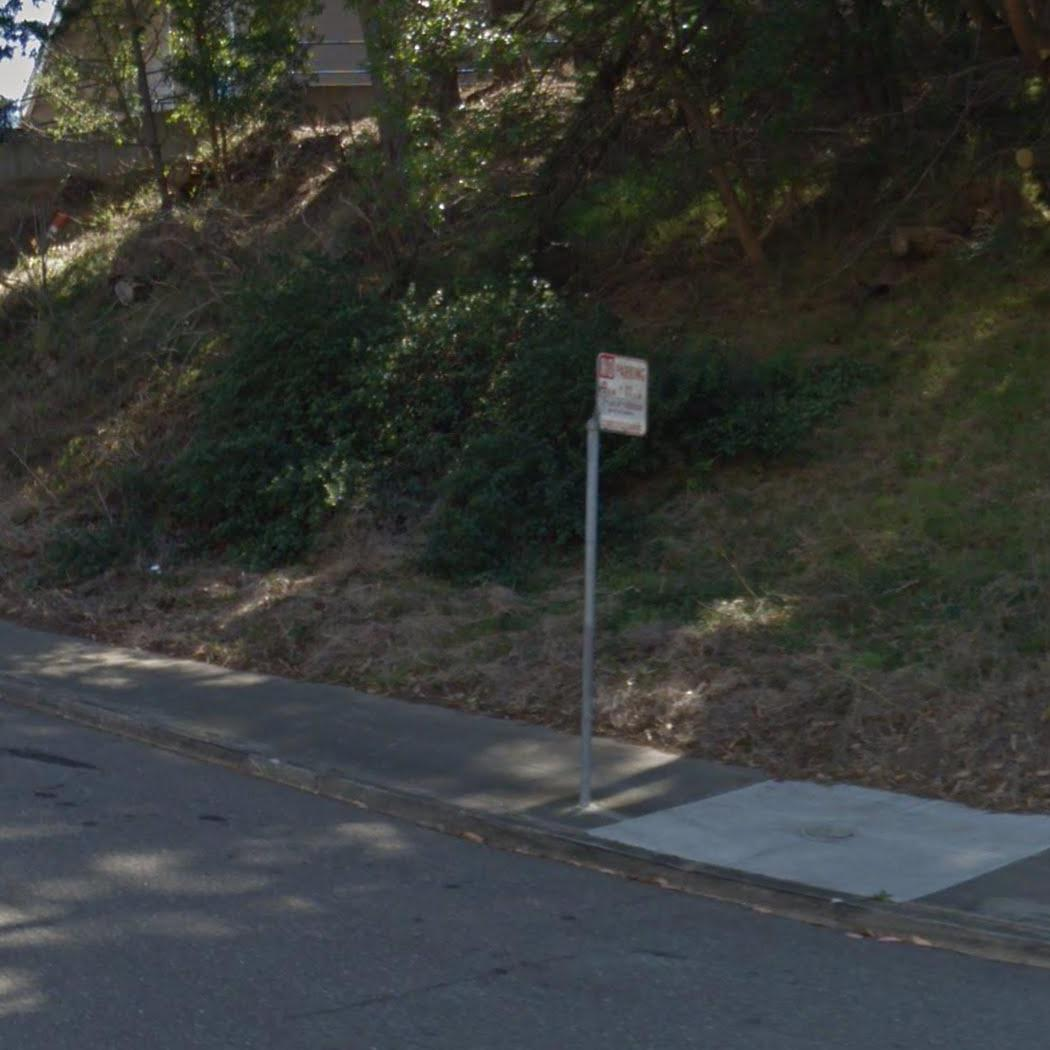No Parking: (593, 351, 652, 438)
